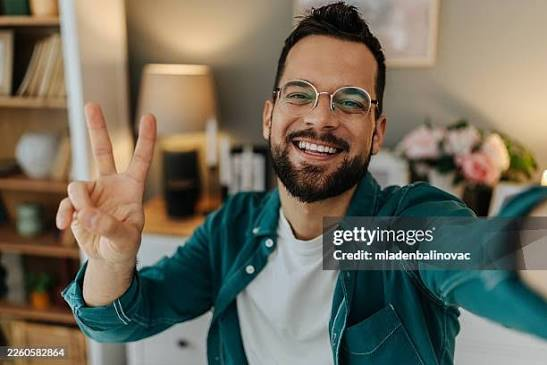peace_sign: (55, 92, 161, 266)
